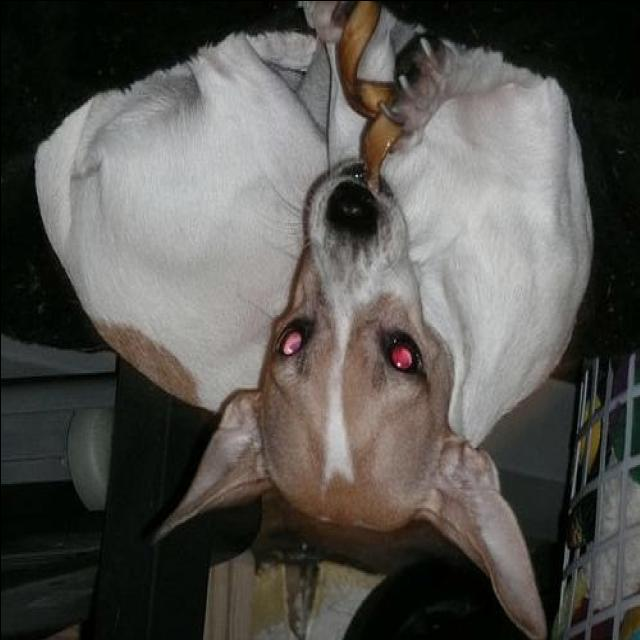chihuahua: (32, 2, 595, 640)
